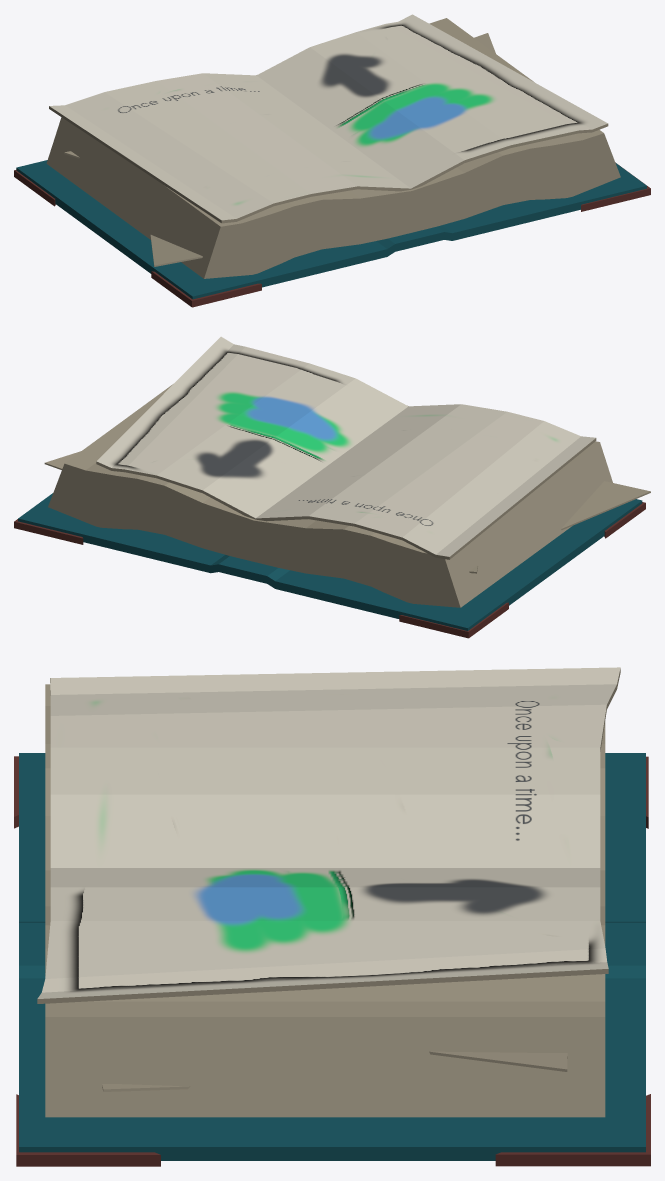
File: story_book_1.glb
3 views of the same model, one above another, from view 1: azimuth 30°, elevation 25°; view 2: azimuth 150°, elevation 25°; view 3: azimuth 270°, elevation 25° (orthographic). The views are drawn at different scales.
Visible parts, largest first — view 1: Book4_Open; view 2: Book4_Open; view 3: Book4_Open.
Boxes of the visible parts, box(x1,y1,x2,y2) form: Book4_Open: box(14, 14, 650, 307); Book4_Open: box(14, 336, 650, 638); Book4_Open: box(14, 667, 650, 1166).
Bounding box in the file's own units: 1.17 × 0.1764 × 0.7521.
Materials: 4 (1 with a texture image).
